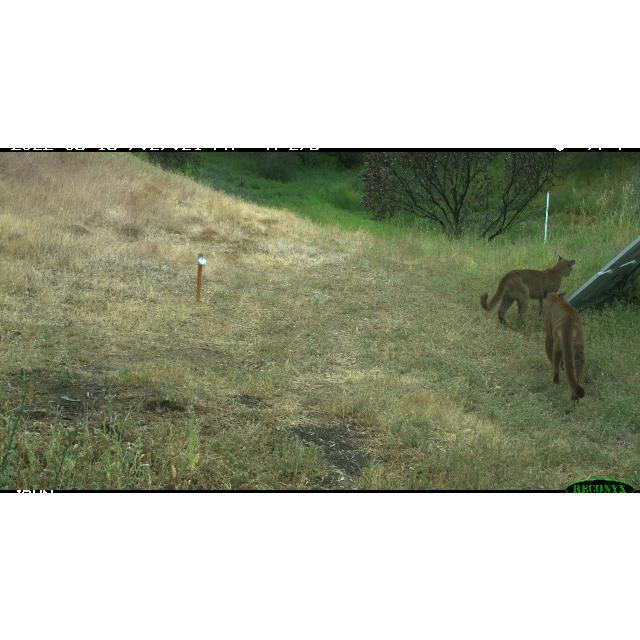animals: (479, 254, 577, 326), (541, 288, 587, 399)
